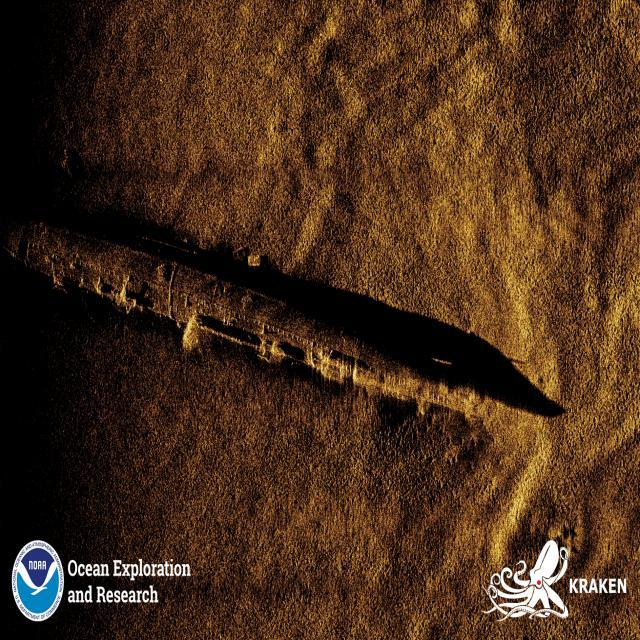shipwreck: (8, 198, 478, 432)
